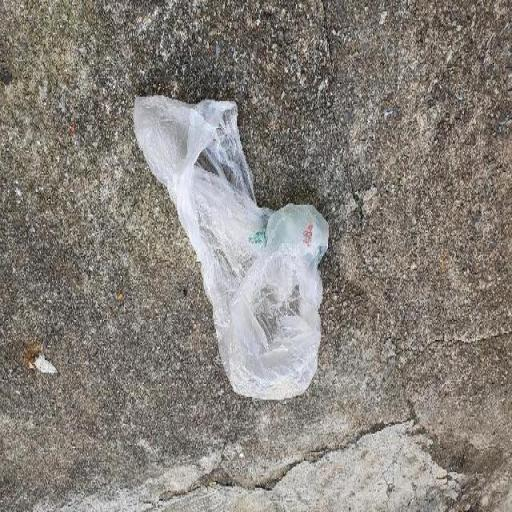plastic-bag: (130, 92, 332, 403)
